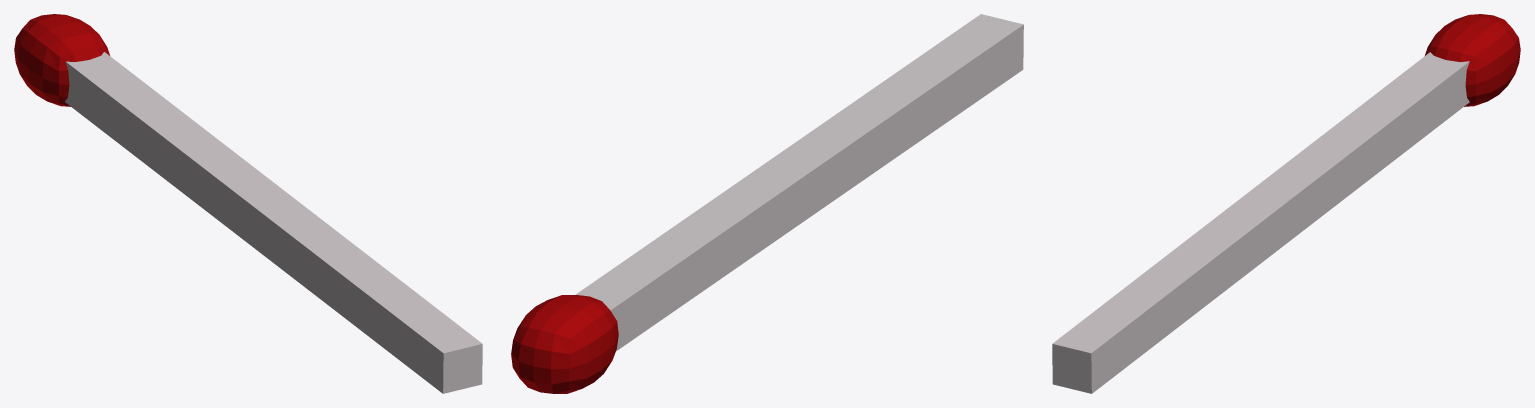
File: Match_Created_By_Tyro_Smith.obj
3 views of the same model, side by side, from view 1: azimuth 30°, elevation 25°; view 2: azimuth 150°, elevation 25°; view 3: azimuth 330°, elevation 25° (orthographic). The views are drawn at different scales.
Visible parts, largest first — view 1: Cube_Cube.002, Cube.001_Cube.004; view 2: Cube_Cube.002, Cube.001_Cube.004; view 3: Cube_Cube.002, Cube.001_Cube.004.
Boxes of the visible parts, left/top/right/bottom form: Cube_Cube.002: left=65, top=52, right=482, bottom=393; Cube.001_Cube.004: left=14, top=14, right=109, bottom=106; Cube_Cube.002: left=575, top=14, right=1023, bottom=351; Cube.001_Cube.004: left=511, top=295, right=618, bottom=393; Cube_Cube.002: left=1052, top=52, right=1469, bottom=393; Cube.001_Cube.004: left=1425, top=14, right=1520, bottom=106.
Size of what is drawn, in the model's own units: 0.1977 by 0.198 by 2.11.
